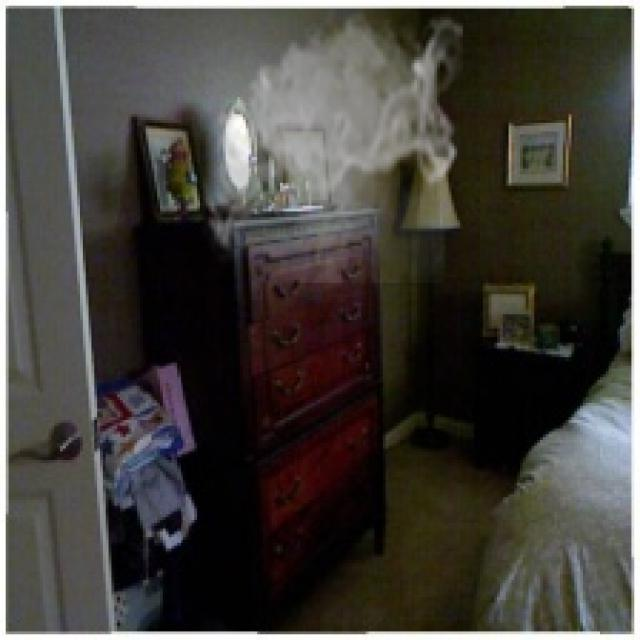smoke: (200, 8, 463, 283)
